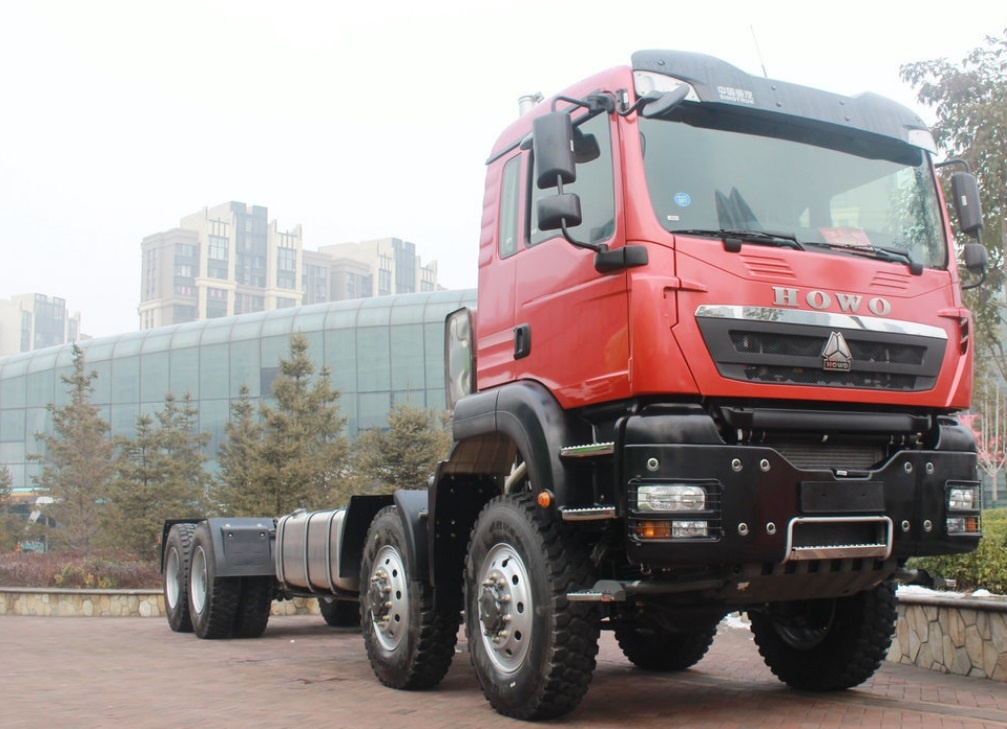heavy truck: (156, 51, 983, 701)
